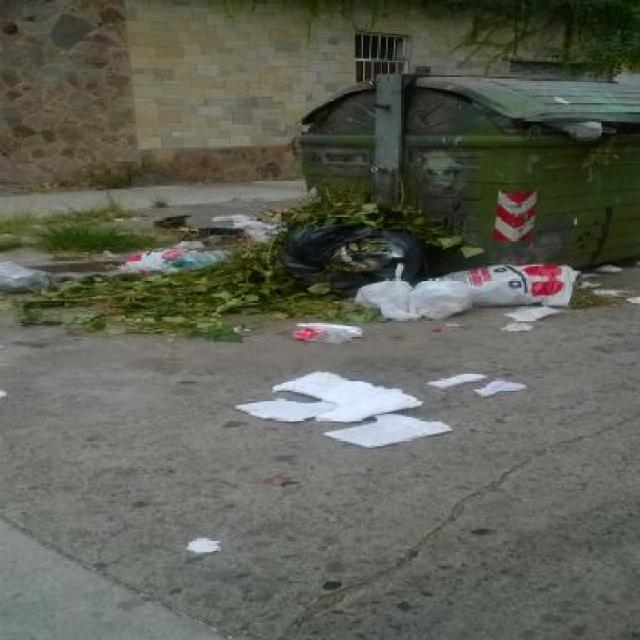garbage: (343, 251, 602, 320), (243, 380, 460, 456), (117, 240, 256, 268)
